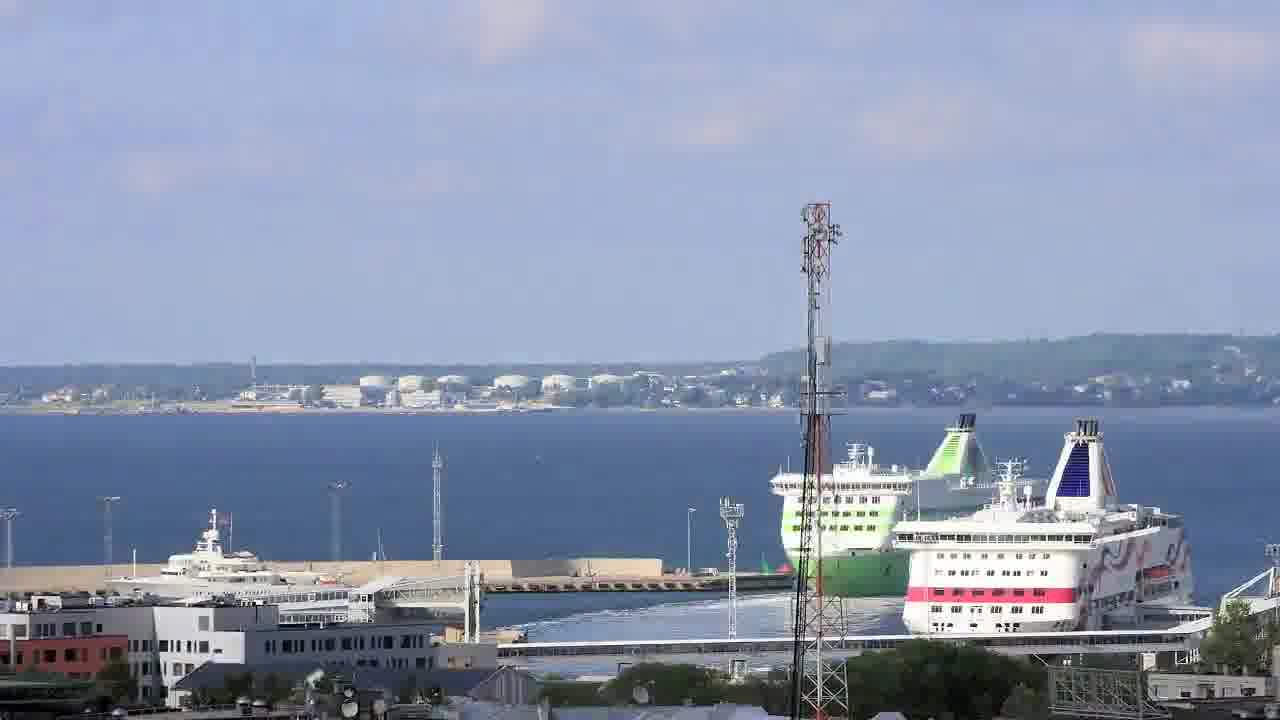type-3: (868, 415, 1225, 638), (766, 423, 959, 616), (84, 511, 353, 609)
